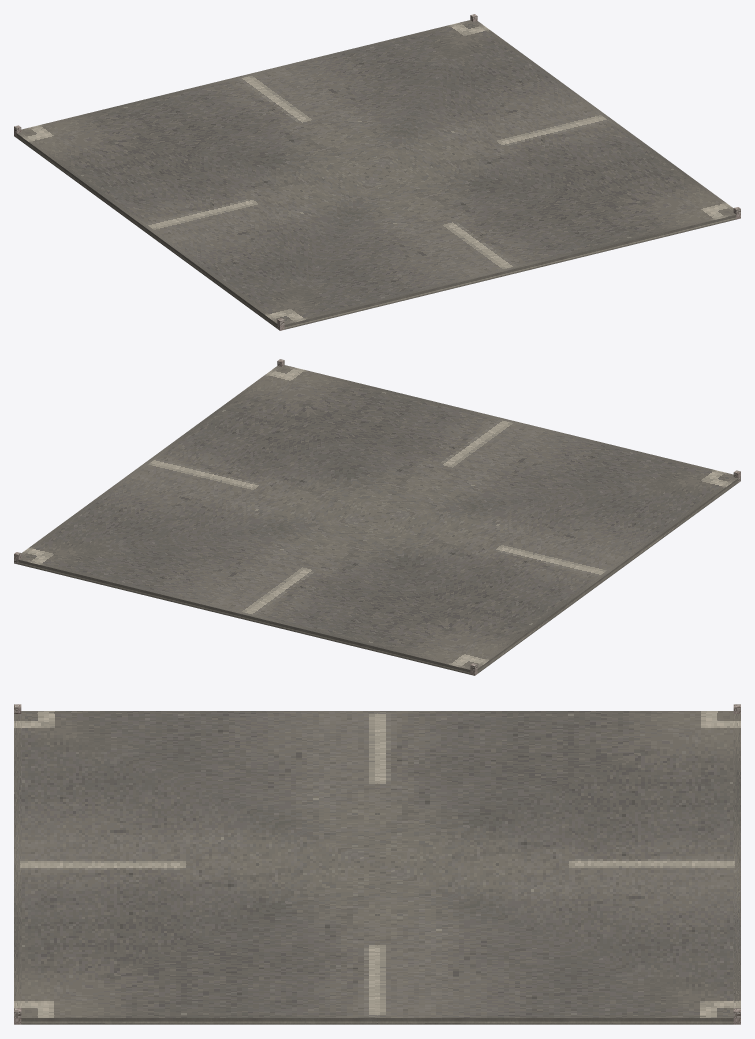
Rendered from road_4_junction_no_sides.glb.
The picture shows the model from 3 angles, top to bottom: view 1: azimuth 30°, elevation 25°; view 2: azimuth 150°, elevation 25°; view 3: azimuth 270°, elevation 25°; orthographic projection. The views are drawn at different scales.
Visible parts, largest first — view 1: road_4_junction_no_sides; view 2: road_4_junction_no_sides; view 3: road_4_junction_no_sides.
Part boxes in pixels (x1,y1,x2,y2): road_4_junction_no_sides: (14,14,740,330); road_4_junction_no_sides: (14,359,740,675); road_4_junction_no_sides: (14,704,740,1024).
Size of the model in its own units: 16 by 0.32 by 16.
2 materials, 2 textured.
